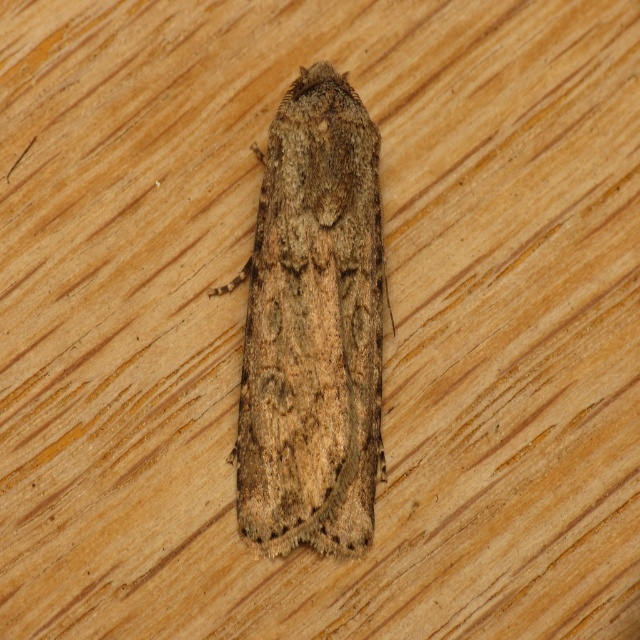Moths and butterflies: (206, 53, 398, 558)
